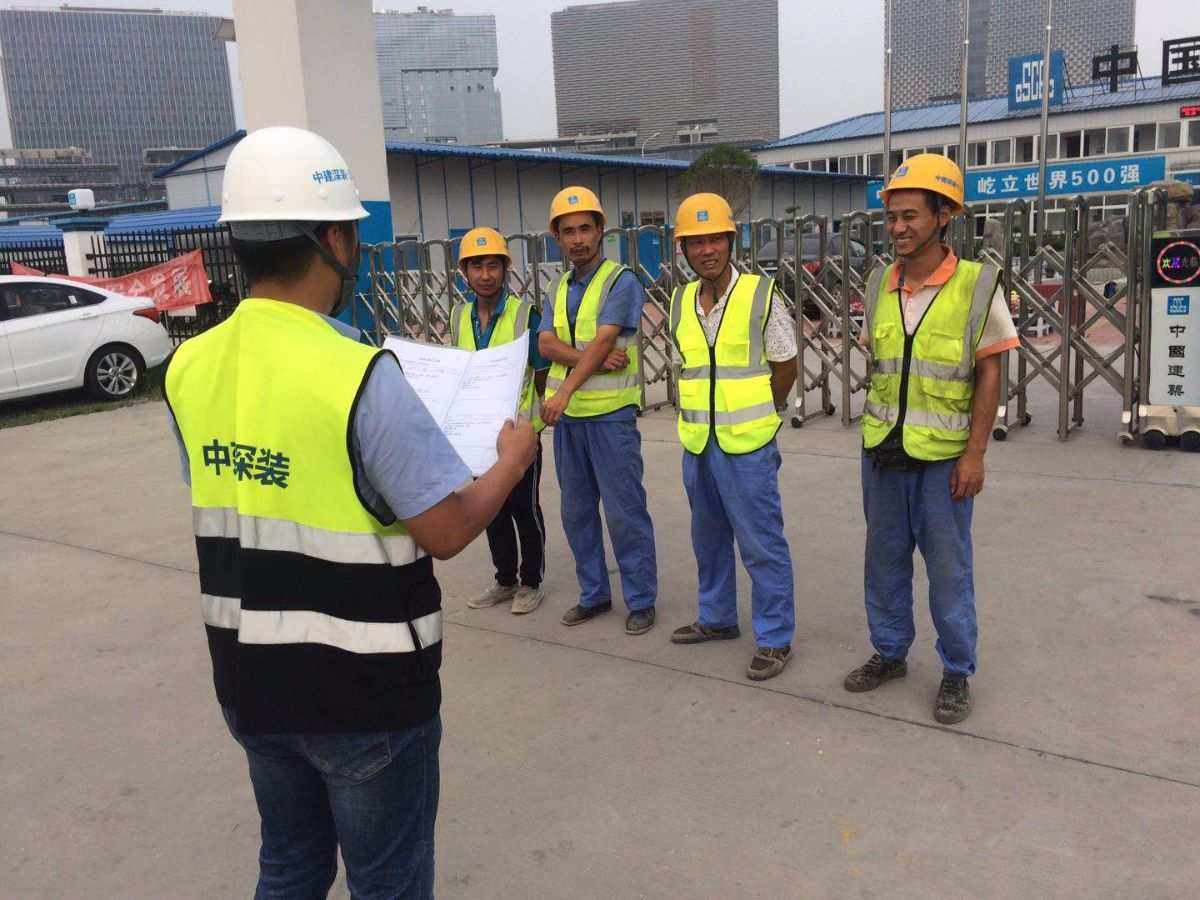person: (158, 123, 541, 900), (841, 152, 1023, 727), (662, 188, 803, 685), (534, 181, 659, 638), (444, 226, 551, 617)
reflective_vest: (161, 295, 447, 733), (860, 257, 1005, 464), (666, 272, 784, 455), (539, 260, 644, 418), (451, 296, 544, 435)
safety_helmet: (217, 124, 375, 317), (876, 151, 966, 263), (670, 190, 743, 285), (546, 181, 609, 268), (453, 226, 514, 298)
